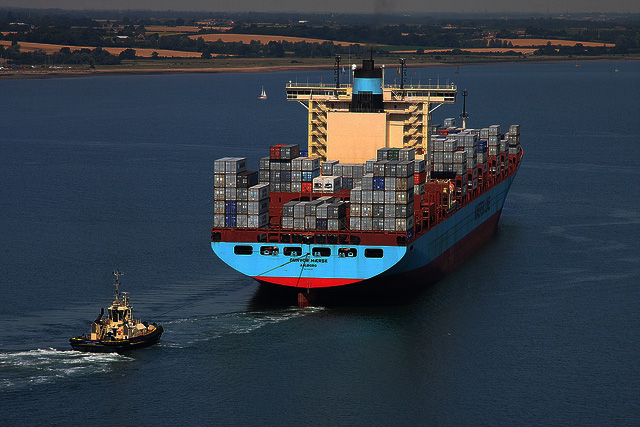container_ship: (209, 54, 527, 310)
tug_boat: (69, 275, 165, 351)
